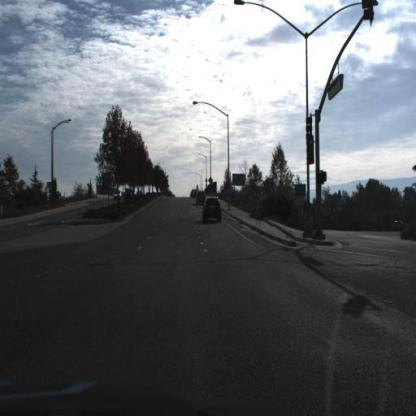car: (203, 196, 224, 222), (196, 190, 207, 205), (114, 189, 124, 202), (192, 190, 200, 200)
